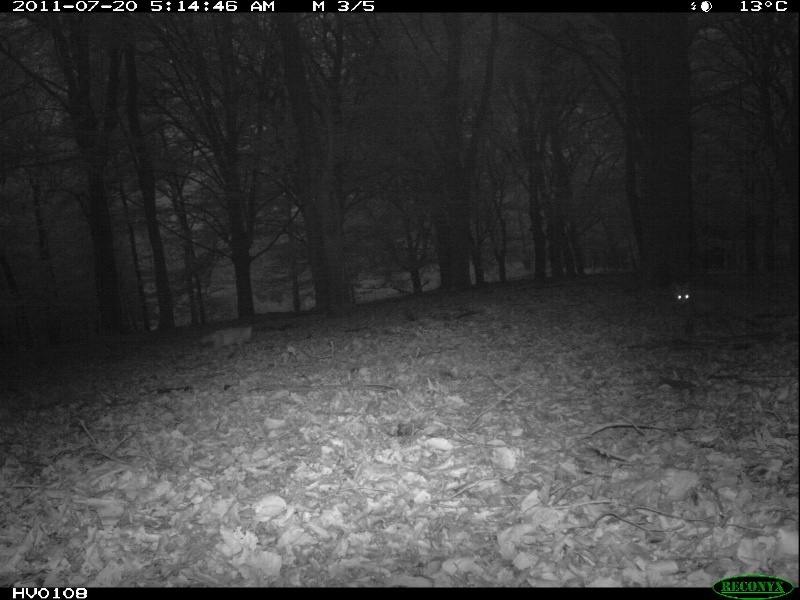fox: (669, 281, 776, 345), (201, 322, 261, 366)
